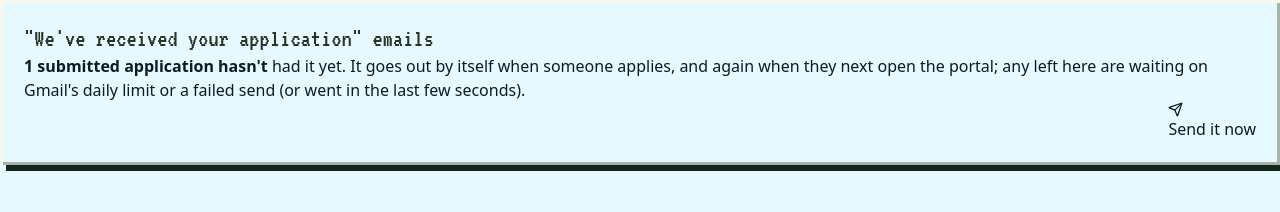
Test: ReceivedEmailsCard › says when Gmail's daily limit stopped it
Click the button "Send it now". click: (1212, 122)
box: [1168,102,1256,141]
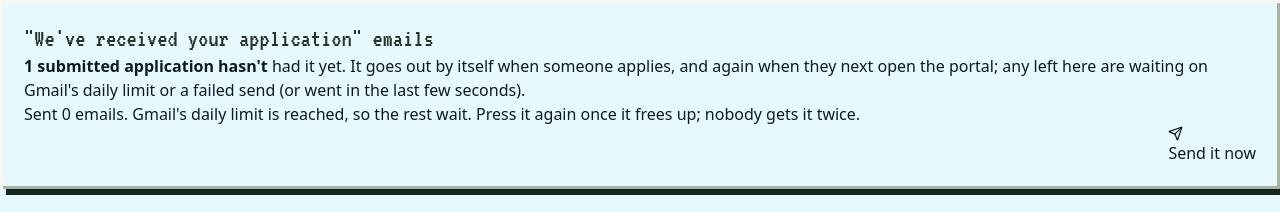
Expected: the button "Send it now" is enabled, [1168,126,1256,165]
Result: the text "daily limit is reached" is shown at [24,103,860,125]
